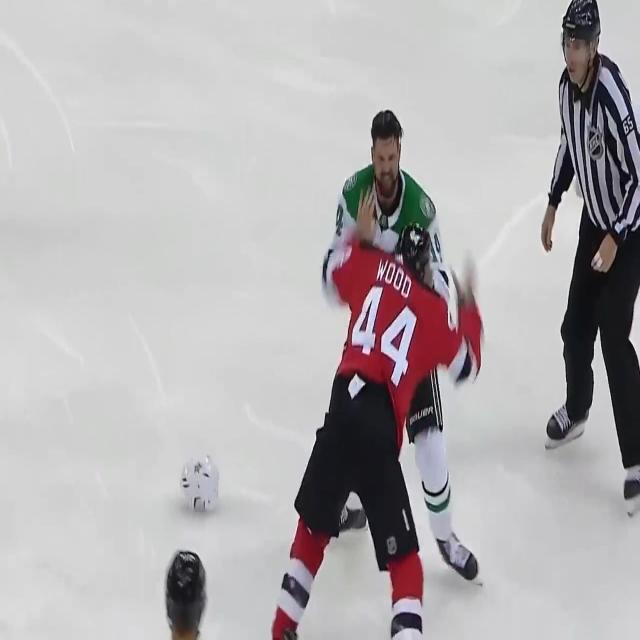fight: (285, 50, 492, 640)
